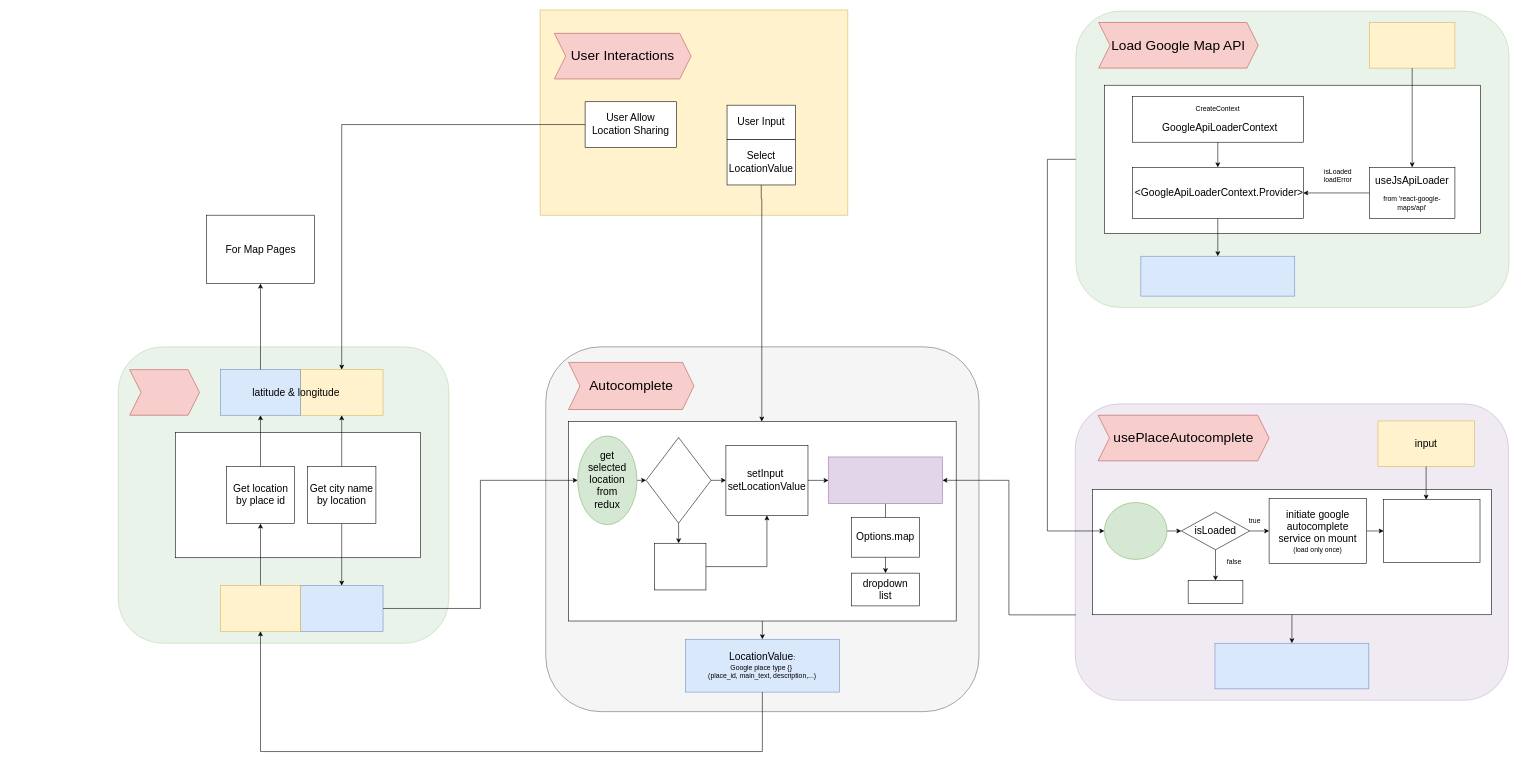
The diagram is 1519 pixels wide and 766 high, and some of its shapes have lost their labels. Each missing label, with the box of its shape:
[] options: (1188, 580, 1243, 603)
API Key: (1369, 22, 1455, 68)
get 'isLoaded' context: (1104, 502, 1167, 559)
get options debounce + cache: (1383, 499, 1480, 562)
have selected location: (646, 437, 711, 523)
locationValue: (220, 585, 300, 631)
Options: (1214, 643, 1369, 689)
Redux: (129, 369, 199, 415)
Sydney: (654, 543, 706, 590)
usePlaceAutocomplete when mounted & input state changes: (828, 456, 942, 504)
{ isLoaded, loadError }: (1140, 256, 1295, 296)
